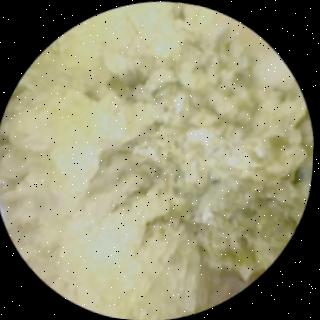stone: (0, 5, 309, 315)
